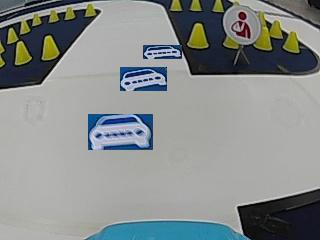cone: (186, 22, 209, 49), (41, 35, 59, 60), (255, 24, 272, 50), (14, 41, 31, 64), (283, 31, 299, 53), (270, 19, 282, 37), (83, 3, 96, 17), (224, 35, 238, 48), (7, 27, 18, 43), (64, 6, 76, 20), (19, 20, 31, 33), (212, 0, 224, 12), (48, 9, 59, 22), (169, 0, 182, 11), (190, 0, 202, 11), (32, 13, 42, 25)
patient: (228, 6, 258, 40)
